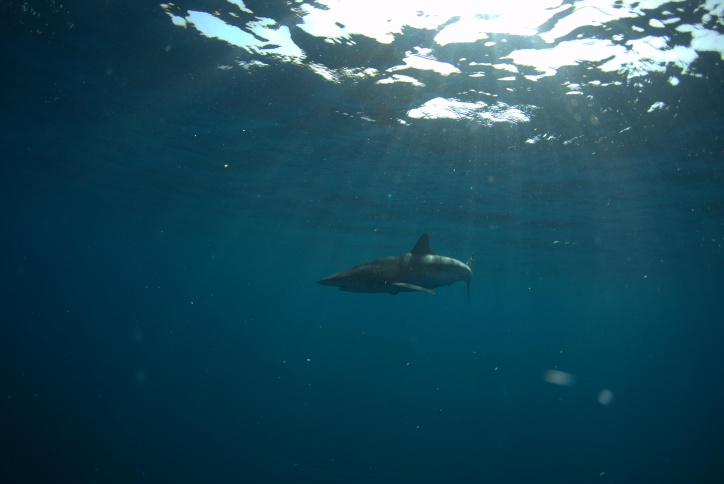Sedoso: (298, 227, 484, 320)
